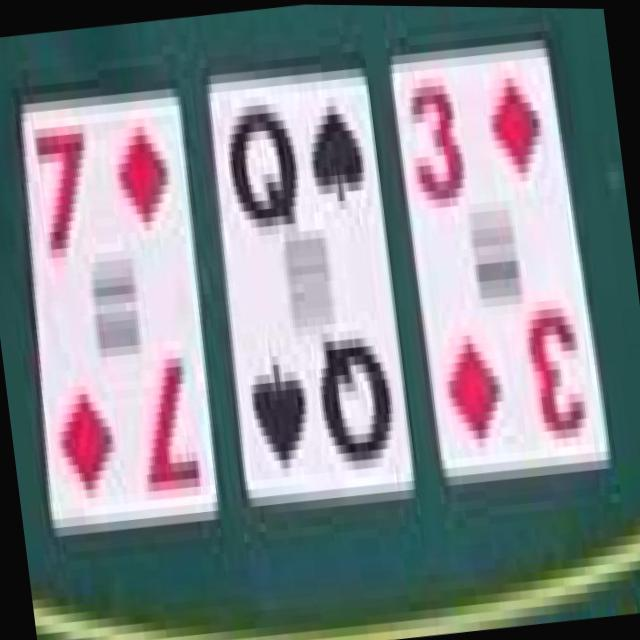Card-3: (391, 46, 607, 474)
Card-7: (20, 93, 216, 524)
Card-Q: (210, 69, 413, 487)
